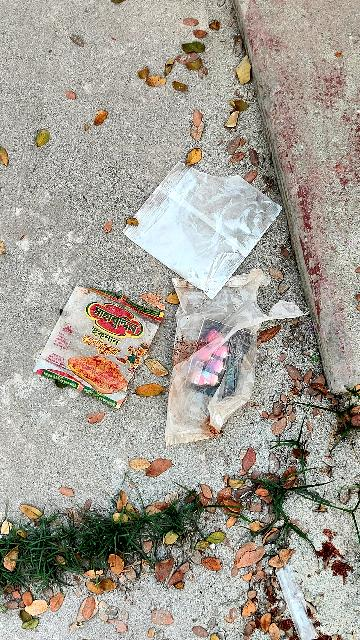polythene: (123, 148, 279, 304), (19, 274, 168, 432), (160, 269, 267, 451)
